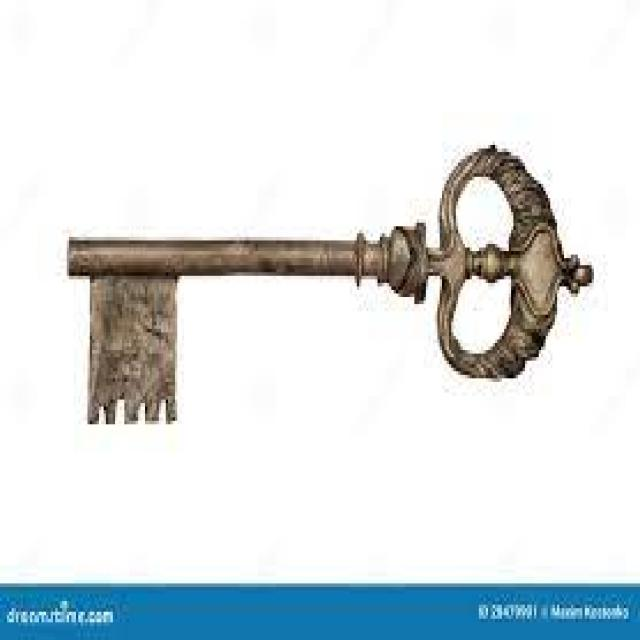key: (49, 117, 600, 514)
